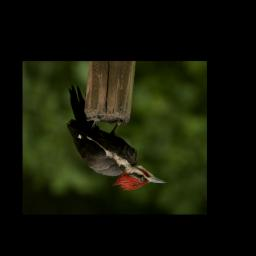Woodpecker: (58, 83, 169, 195)
